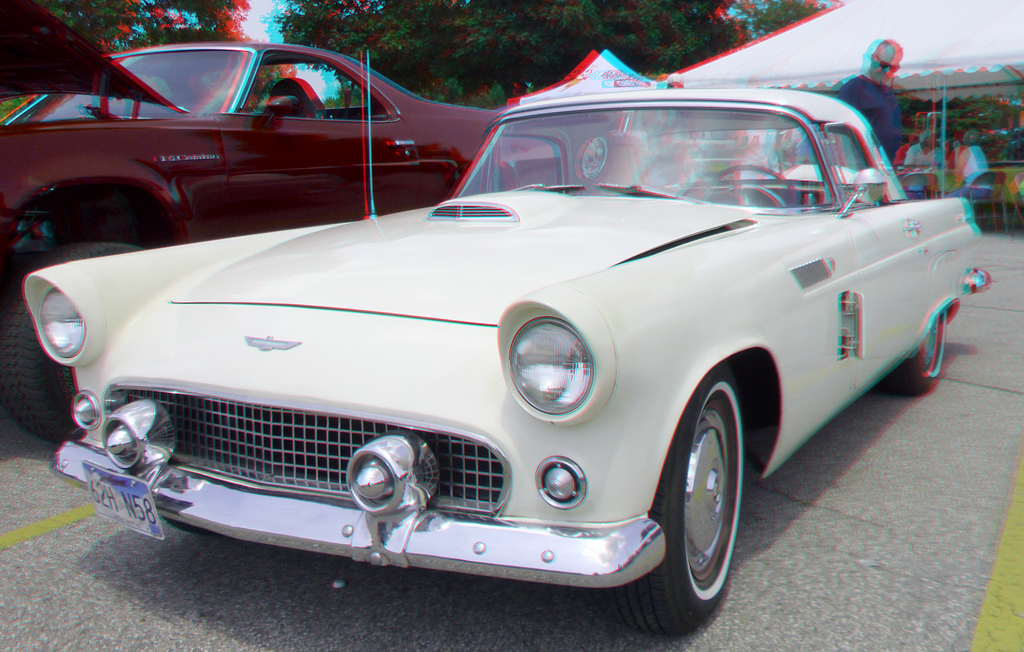Car: (17, 84, 990, 639), (0, 0, 574, 445)
